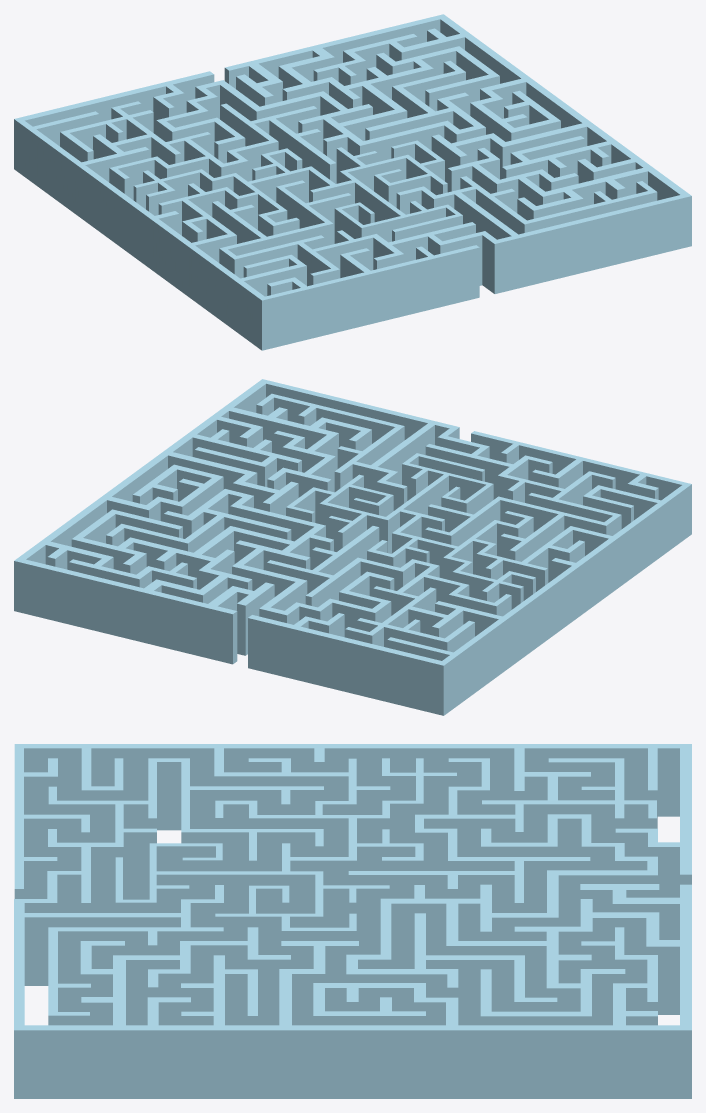
The model's file is maze.fbx.
The picture shows the model from 3 angles, top to bottom: view 1: azimuth 30°, elevation 25°; view 2: azimuth 150°, elevation 25°; view 3: azimuth 270°, elevation 25°; orthographic projection. The views are drawn at different scales.
Visible parts, largest first — view 1: maze; view 2: maze; view 3: maze.
Boxes of the visible parts, x1,y1,x2,y2 form: maze: (14, 14, 691, 350); maze: (14, 379, 691, 715); maze: (14, 744, 691, 1098).
Bounding box in the file's own units: 1648 × 184 × 1649.
